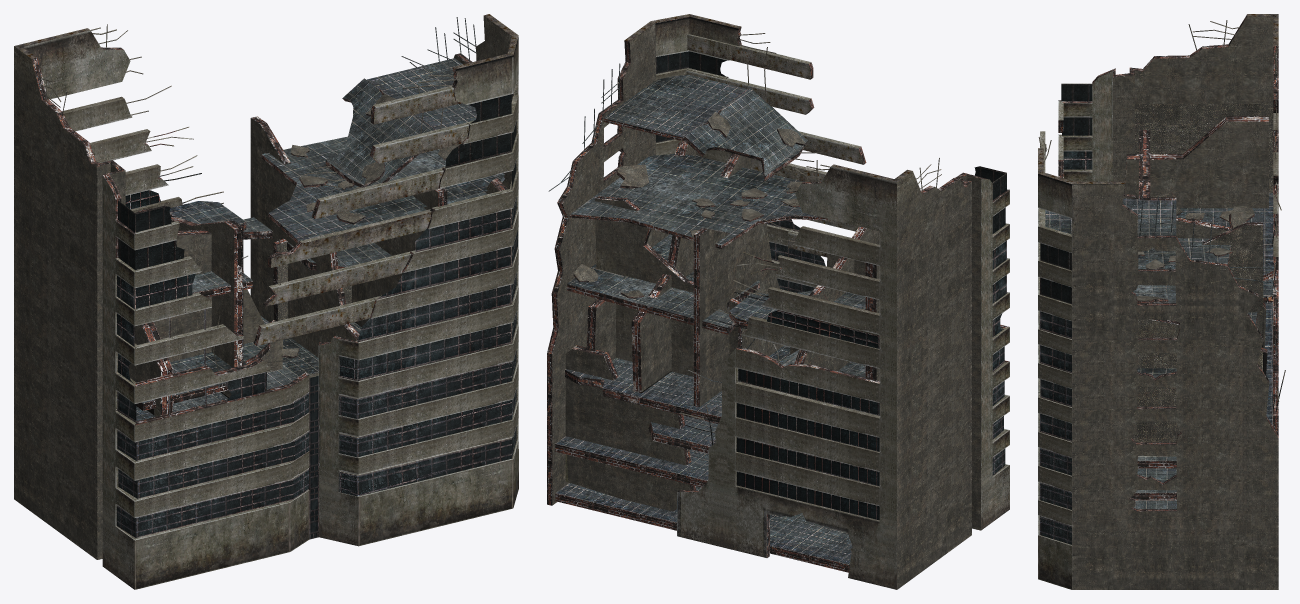
The model's file is buildings_02_ruin.FBX.
The picture shows the model from 3 angles, left to right: view 1: azimuth 30°, elevation 25°; view 2: azimuth 150°, elevation 25°; view 3: azimuth 270°, elevation 25°; orthographic projection. The views are drawn at different scales.
Visible parts, largest first — view 1: Object100; view 2: Object100; view 3: Object100.
Part boxes in pixels (x1,y1,x2,y2): Object100: (14, 14, 518, 589); Object100: (547, 14, 1009, 589); Object100: (1038, 14, 1285, 589).
Bounding box in the file's own units: 3689 × 2241 × 4059.
1 material, 1 textured.
